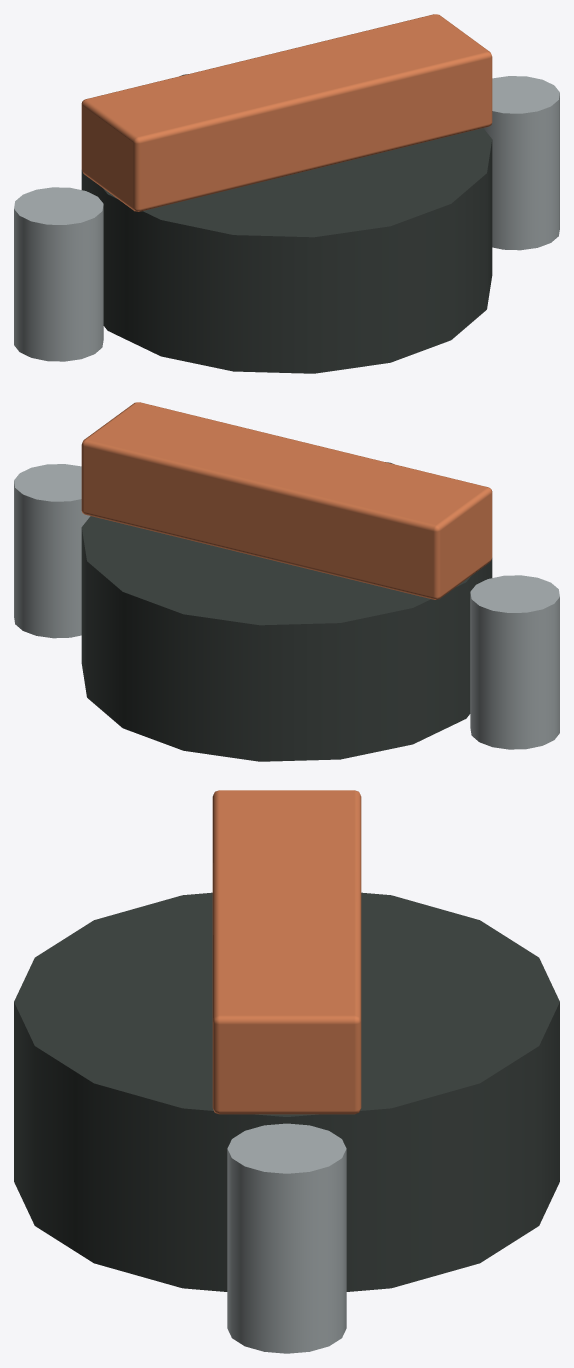
Rendered from off-grid-power-and-controls-battery-isolator-8a4cf80f__2985.glb.
3 renders of one model, top to bottom at view 1: azimuth 30°, elevation 25°; view 2: azimuth 150°, elevation 25°; view 3: azimuth 270°, elevation 25°, orthographic. The views are drawn at different scales.
Visible parts, largest first — view 1: battery-isolator, switch/signal; view 2: battery-isolator, switch/signal; view 3: battery-isolator, switch/signal.
Part boxes in pixels (bbox=[...]): battery-isolator: bbox=[14, 74, 559, 373]; switch/signal: bbox=[81, 14, 492, 211]; battery-isolator: bbox=[14, 462, 559, 761]; switch/signal: bbox=[81, 402, 492, 599]; battery-isolator: bbox=[14, 892, 559, 1353]; switch/signal: bbox=[212, 790, 361, 1114].
Size of the model in its own units: 0.164 by 0.062 by 0.11.
